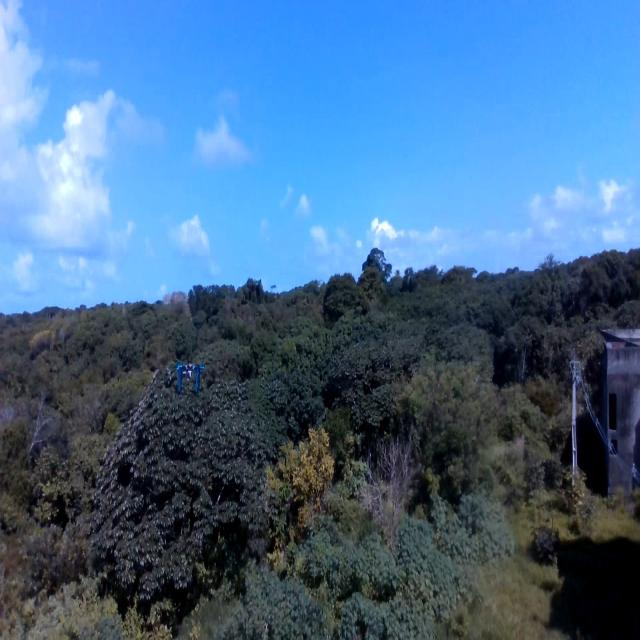-uav-: (159, 343, 215, 406)
